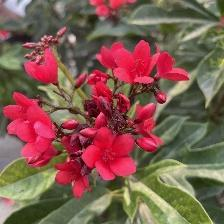jatropha: (84, 128, 139, 182), (114, 41, 163, 88), (54, 159, 96, 204), (11, 91, 52, 137), (155, 51, 192, 88), (26, 49, 60, 89), (27, 133, 57, 169)
